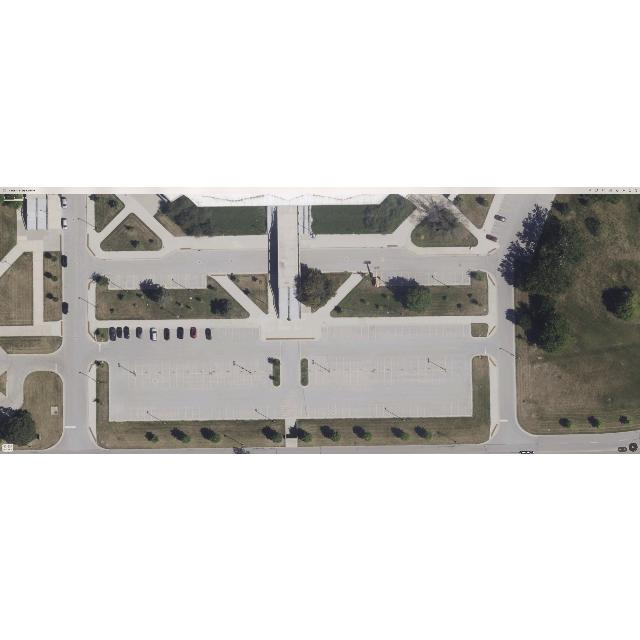Empty: (128, 360, 136, 374), (148, 360, 156, 374), (162, 360, 170, 374), (183, 374, 190, 390), (176, 361, 184, 374), (196, 361, 204, 374), (170, 329, 178, 341), (183, 329, 190, 341), (142, 360, 148, 374), (122, 360, 128, 374), (156, 360, 162, 374), (170, 360, 176, 374), (183, 359, 189, 373), (190, 359, 196, 373), (204, 359, 210, 373), (211, 359, 217, 373), (217, 359, 223, 373), (238, 360, 245, 372), (232, 359, 238, 373), (245, 359, 251, 373), (349, 404, 356, 416), (136, 360, 142, 374), (206, 406, 213, 418), (198, 328, 204, 340), (157, 328, 163, 340), (144, 329, 150, 341), (130, 329, 136, 341), (363, 404, 369, 416), (356, 404, 362, 416)
Parked: (136, 328, 144, 342), (150, 328, 158, 342), (177, 327, 185, 341), (190, 327, 198, 341), (204, 327, 212, 341), (163, 328, 170, 340), (124, 328, 130, 342), (117, 328, 123, 342), (110, 328, 116, 342)
